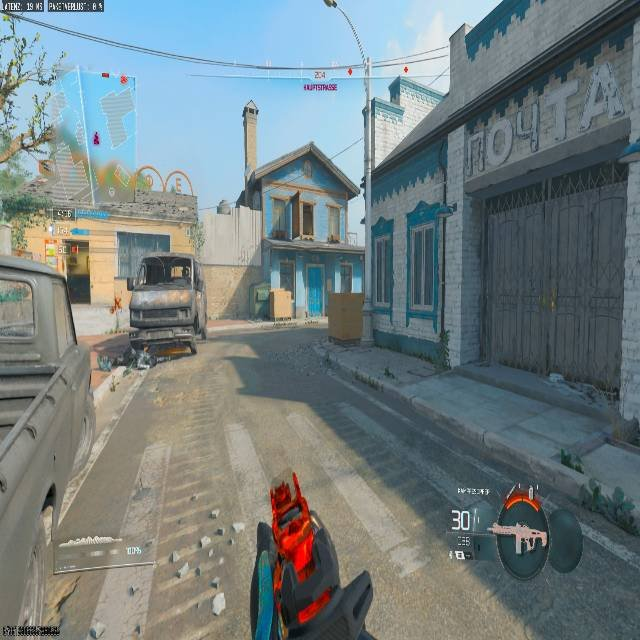player: (108, 276, 128, 329)
